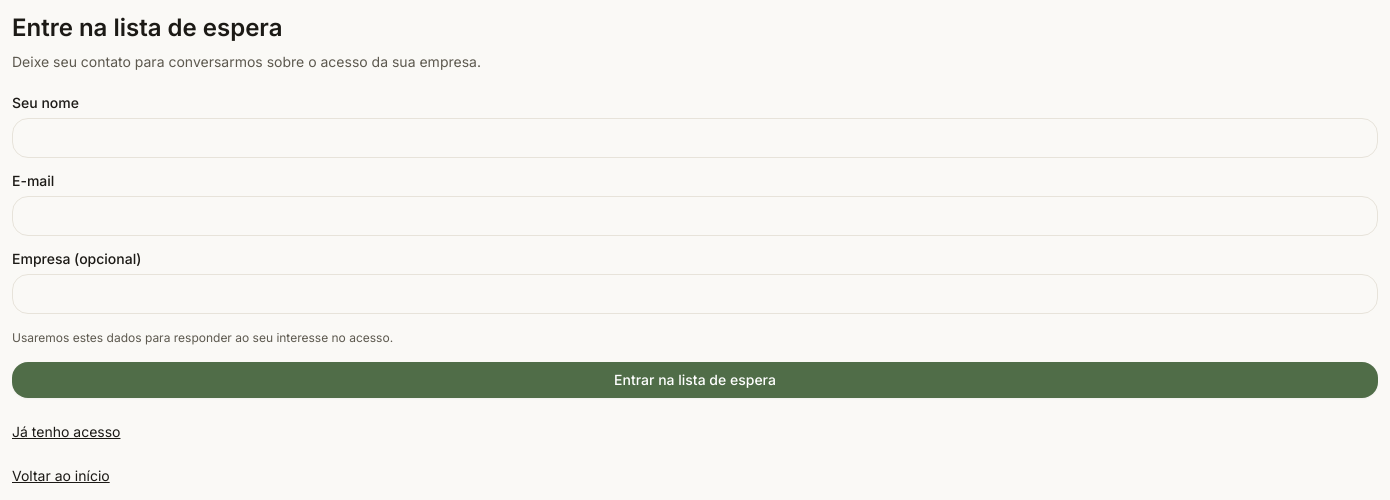
Test: envia interesse e deixa explícito que não criou conta ou convite
Type "Maria" into the field labelled "Seu nome" at (695,138), box left=12, top=118, right=1378, bottom=158
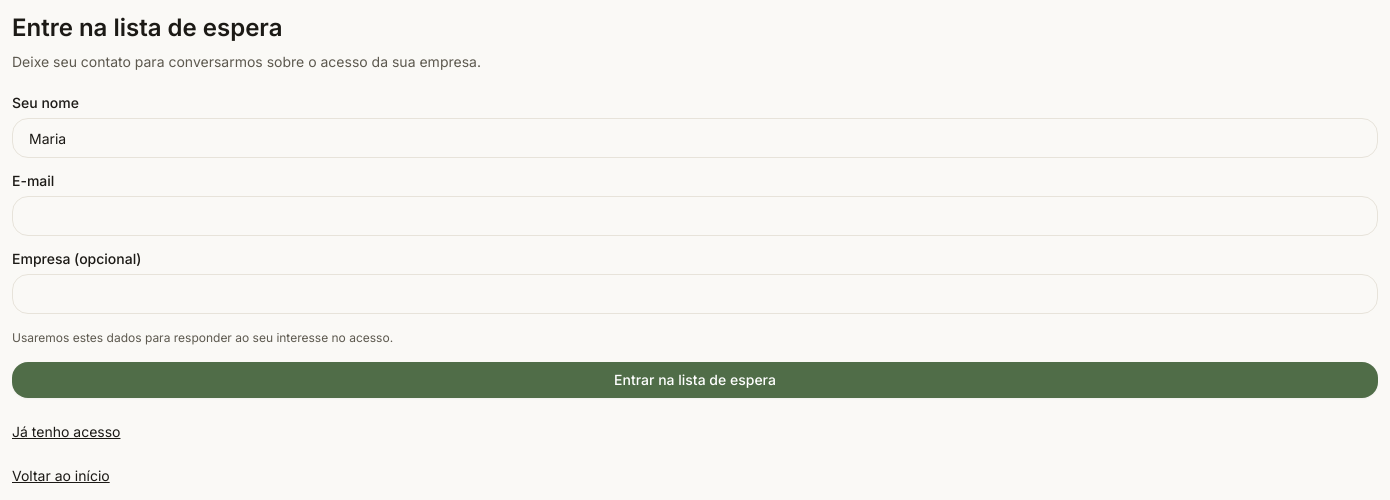
Type "maria@example.com" into the field labelled "E-mail" at (695,216), box left=12, top=196, right=1378, bottom=236
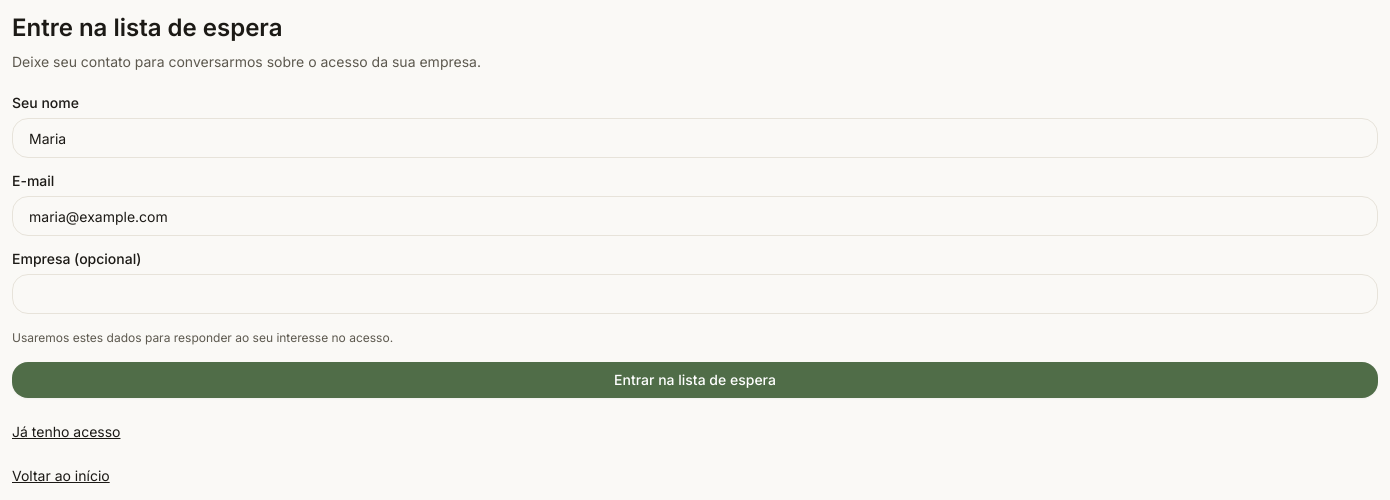
Click the button "Entrar na lista de espera" at (695,380), box left=12, top=362, right=1378, bottom=398
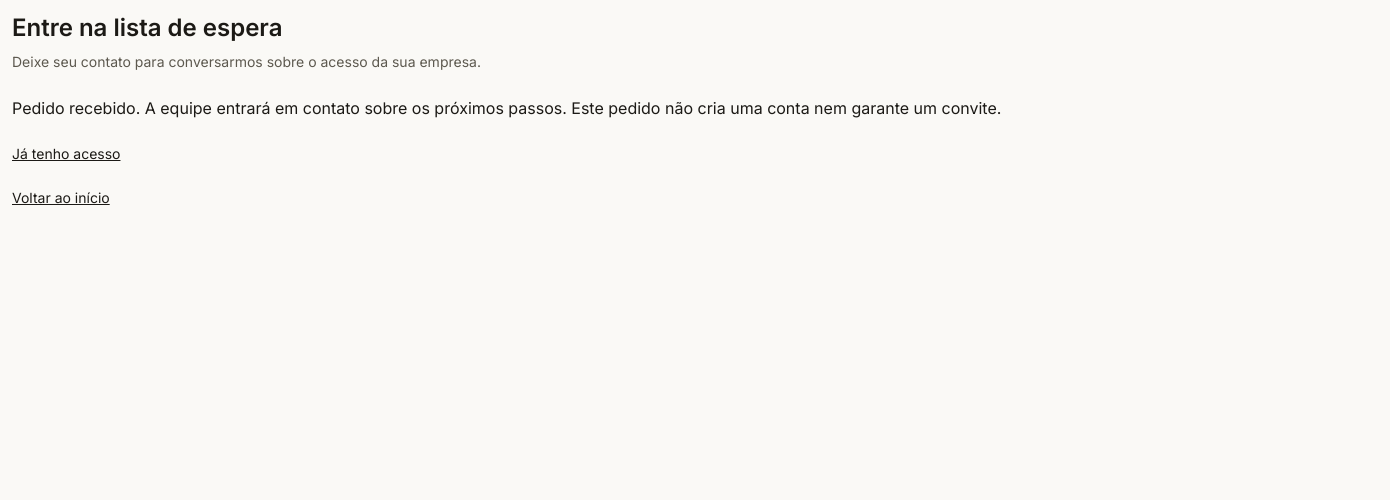
Check: the message shows "não cria uma conta nem garante um convite", box left=12, top=98, right=1001, bottom=118
